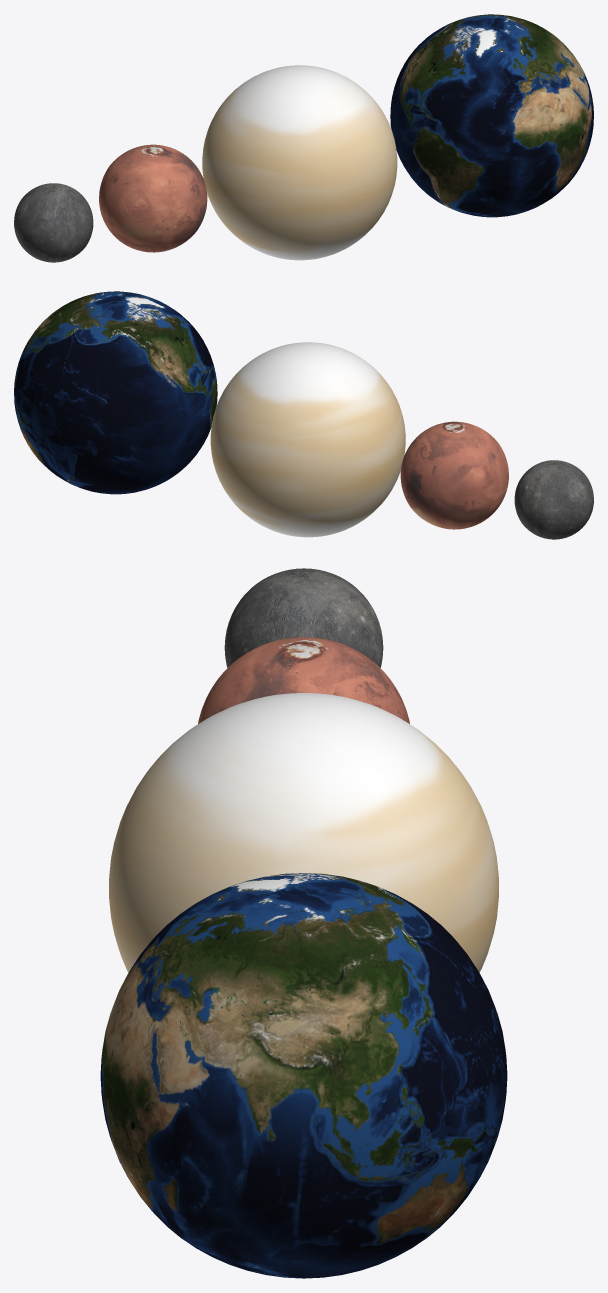
Rendered from Rocosos.glb.
3 renders of one model, top to bottom at view 1: azimuth 30°, elevation 25°; view 2: azimuth 150°, elevation 25°; view 3: azimuth 270°, elevation 25°, orthographic. The views are drawn at different scales.
Visible parts, largest first — view 1: Cube.001, cylindrically_mapped_sphere:Mesh, Cube.008, Cube.003; view 2: Cube.001, cylindrically_mapped_sphere:Mesh, Cube.008, Cube.003; view 3: Cube.001, cylindrically_mapped_sphere:Mesh, Cube.003, Cube.008.
Boxes of the visible parts, left/top/right/bottom form: Cube.001: left=390, top=14, right=593, bottom=217; cylindrically_mapped_sphere:Mesh: left=202, top=65, right=397, bottom=260; Cube.008: left=99, top=144, right=207, bottom=252; Cube.003: left=14, top=183, right=93, bottom=262; Cube.001: left=14, top=291, right=217, bottom=494; cylindrically_mapped_sphere:Mesh: left=210, top=342, right=405, bottom=537; Cube.008: left=400, top=421, right=508, bottom=529; Cube.003: left=514, top=460, right=593, bottom=539; Cube.001: left=100, top=873, right=507, bottom=1278; cylindrically_mapped_sphere:Mesh: left=109, top=693, right=498, bottom=972; Cube.003: left=224, top=568, right=383, bottom=667; Cube.008: left=198, top=637, right=409, bottom=723.
Bounding box in the file's own units: 4.97 × 1.56 × 1.56.
4 materials, 4 textured.
